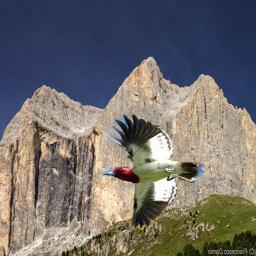Woodpecker: (103, 114, 203, 233)
